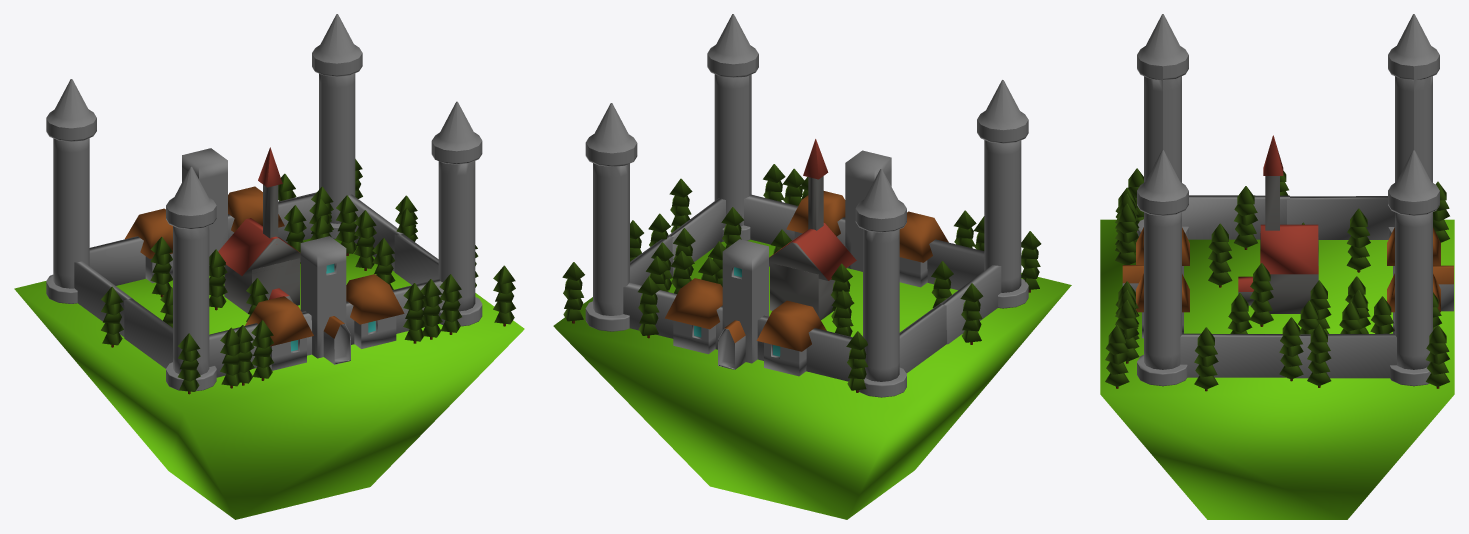
The model's file is _library.fbx.
3 renders of one model, left to right at view 1: azimuth 30°, elevation 25°; view 2: azimuth 150°, elevation 25°; view 3: azimuth 270°, elevation 25°, orthographic. The views are drawn at different scales.
Visible parts, largest first — view 1: mesh27, mesh01, mesh12, mesh21, mesh10, mesh06, mesh17, mesh24, mesh23, mesh09, mesh04, mesh08 (+9 smaller); view 2: mesh27, mesh12, mesh01, mesh21, mesh17, mesh06, mesh10, mesh24, mesh23, mesh15, mesh19, mesh08 (+11 smaller); view 3: mesh27, mesh12, mesh01, mesh10, mesh17, mesh06, mesh21, mesh24, mesh08, mesh20, mesh09, mesh19 (+8 smaller).
Part boxes in pixels (<box>): mesh27: <box>14,238,524,519</box>; mesh01: <box>124,234,444,377</box>; mesh12: <box>74,148,403,336</box>; mesh21: <box>53,138,89,288</box>; mesh10: <box>438,161,475,311</box>; mesh06: <box>173,226,209,375</box>; mesh17: <box>319,73,355,223</box>; mesh24: <box>218,218,300,276</box>; mesh23: <box>224,258,299,314</box>; mesh09: <box>431,101,482,164</box>; mesh04: <box>346,274,404,324</box>; mesh08: <box>166,166,216,229</box>; mesh27: <box>553,239,1071,519</box>; mesh12: <box>623,236,946,381</box>; mesh01: <box>668,150,1001,344</box>; mesh21: <box>863,229,899,381</box>; mesh17: <box>593,163,629,315</box>; mesh06: <box>984,140,1021,292</box>; mesh10: <box>714,74,751,226</box>; mesh24: <box>769,223,856,280</box>; mesh23: <box>770,262,846,319</box>; mesh15: <box>756,300,826,351</box>; mesh19: <box>585,103,637,166</box>; mesh08: <box>977,80,1028,143</box>; mesh27: <box>1100,219,1454,519</box>; mesh12: <box>1287,196,1453,378</box>; mesh01: <box>1122,195,1289,377</box>; mesh10: <box>1144,212,1181,369</box>; mesh17: <box>1395,212,1432,369</box>; mesh06: <box>1144,76,1181,182</box>; mesh21: <box>1395,76,1432,182</box>; mesh24: <box>1260,224,1318,274</box>; mesh08: <box>1137,14,1188,80</box>; mesh20: <box>1388,14,1439,80</box>; mesh09: <box>1137,150,1188,216</box>; mesh19: <box>1388,150,1439,216</box>.
Size of the model in its own units: 6.65 by 7.09 by 5.65.
